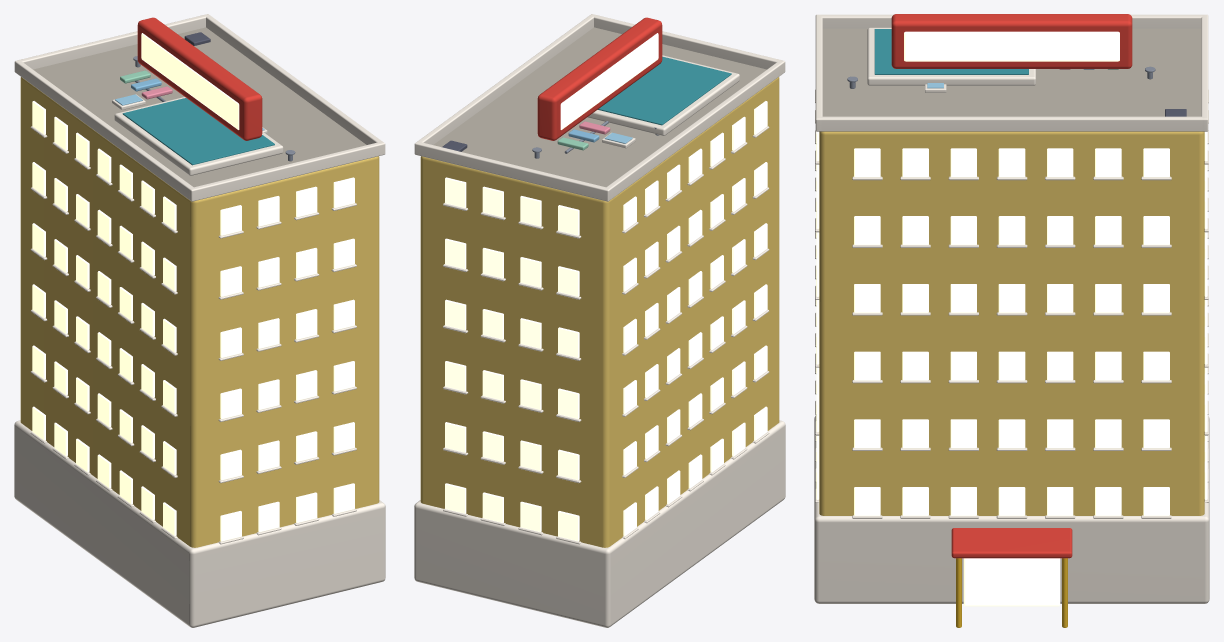
File: hotel.glb
3 views of the same model, side by side, from view 1: azimuth 30°, elevation 25°; view 2: azimuth 150°, elevation 25°; view 3: azimuth 270°, elevation 25° (orthographic). The views are drawn at different scales.
Visible parts, largest first — view 1: hotel; view 2: hotel; view 3: hotel.
Part boxes in pixels (x1,y1,x2,y2): hotel: [14, 14, 385, 627]; hotel: [414, 14, 785, 627]; hotel: [814, 14, 1209, 627].
Bounding box in the file's own units: 12.8 × 24.5 × 16.4.
1 material, 1 textured.
